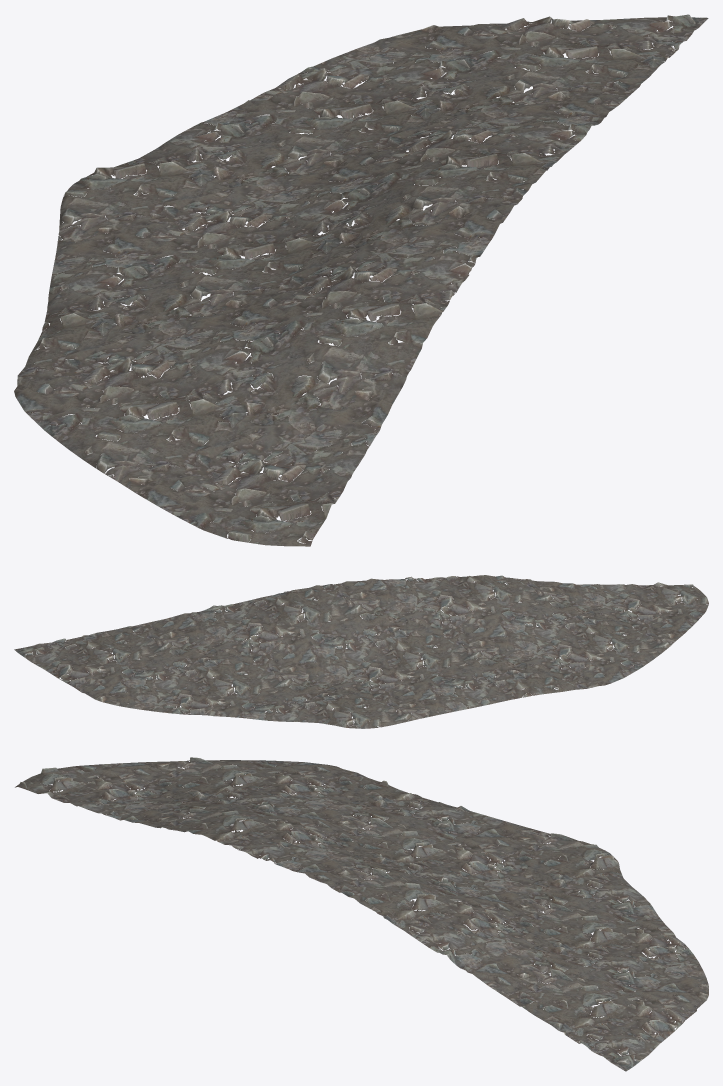
The picture shows the model from 3 angles, top to bottom: view 1: azimuth 30°, elevation 25°; view 2: azimuth 150°, elevation 25°; view 3: azimuth 270°, elevation 25°; orthographic projection. The views are drawn at different scales.
Visible parts, largest first — view 1: SM_SaradominTemple_Rubble_02_v2_LOD0; view 2: SM_SaradominTemple_Rubble_02_v2_LOD0; view 3: SM_SaradominTemple_Rubble_02_v2_LOD0.
Boxes of the visible parts, <box> form: SM_SaradominTemple_Rubble_02_v2_LOD0: <box>14,14,708,546</box>; SM_SaradominTemple_Rubble_02_v2_LOD0: <box>14,575,708,728</box>; SM_SaradominTemple_Rubble_02_v2_LOD0: <box>15,757,708,1071</box>.
Size of the model in its own units: 16.24 by 1.21 by 15.31.
Materials: 1 (1 with a texture image).
